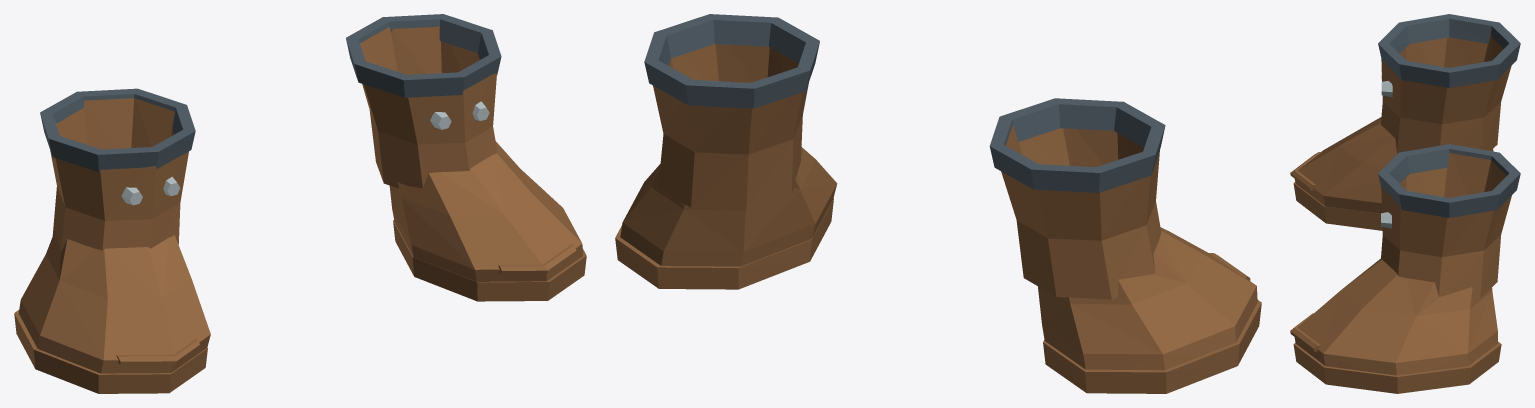
The model's file is studded_feet-male.glb.
The picture shows the model from 3 angles, left to right: view 1: azimuth 30°, elevation 25°; view 2: azimuth 150°, elevation 25°; view 3: azimuth 270°, elevation 25°; orthographic projection. The views are drawn at different scales.
Parts seen in each view (by area): view 1: studded boot foot -1, studded boot foot 1, studded boot upper -1, studded boot upper 1, Turned boot cuff 1, Turned boot cuff -1, Boot sole -1, Boot sole 1, Boot toe welt -1, Boot toe welt 1; view 2: studded boot upper -1, studded boot foot -1, studded boot upper 1, studded boot foot 1, Turned boot cuff 1, Turned boot cuff -1, Boot sole -1, Boot sole 1; view 3: studded boot foot 1, studded boot upper 1, studded boot upper -1, Turned boot cuff -1, studded boot foot -1, Turned boot cuff 1, Boot sole 1, Boot sole -1, Boot toe welt 1, Boot toe welt -1.
Part boxes in pixels (left/top/right/bottom): studded boot foot -1: left=18, top=230, right=210, bottom=373; studded boot foot 1: left=389, top=141, right=582, bottom=281; studded boot upper -1: left=50, top=98, right=188, bottom=251; studded boot upper 1: left=360, top=26, right=497, bottom=188; Turned boot cuff 1: left=346, top=14, right=501, bottom=97; Turned boot cuff -1: left=40, top=88, right=195, bottom=172; Boot sole -1: left=14, top=310, right=207, bottom=393; Boot sole 1: left=393, top=220, right=586, bottom=301; Boot toe welt -1: left=116, top=338, right=199, bottom=364; Boot toe welt 1: left=498, top=244, right=576, bottom=273; studded boot upper -1: left=1001, top=125, right=1161, bottom=299; studded boot foot -1: left=1038, top=227, right=1257, bottom=370; studded boot upper 1: left=653, top=44, right=808, bottom=210; studded boot foot 1: left=620, top=147, right=837, bottom=266; Turned boot cuff 1: left=644, top=14, right=819, bottom=108; Turned boot cuff -1: left=989, top=98, right=1165, bottom=192; Boot sole -1: left=1043, top=300, right=1261, bottom=393; Boot sole 1: left=615, top=198, right=833, bottom=289; studded boot foot 1: left=1294, top=258, right=1497, bottom=375; studded boot upper 1: left=1381, top=152, right=1511, bottom=299; studded boot upper -1: left=1380, top=33, right=1511, bottom=153; Turned boot cuff -1: left=1378, top=14, right=1520, bottom=87; studded boot foot -1: left=1294, top=117, right=1493, bottom=213; Turned boot cuff 1: left=1378, top=144, right=1520, bottom=217; Boot sole 1: left=1293, top=341, right=1501, bottom=393; Boot sole -1: left=1293, top=182, right=1382, bottom=230; Boot toe welt 1: left=1290, top=313, right=1321, bottom=351; Boot toe welt -1: left=1290, top=152, right=1321, bottom=190.
Bounding box in the file's own units: 2.9 × 1.03 × 1.25.
